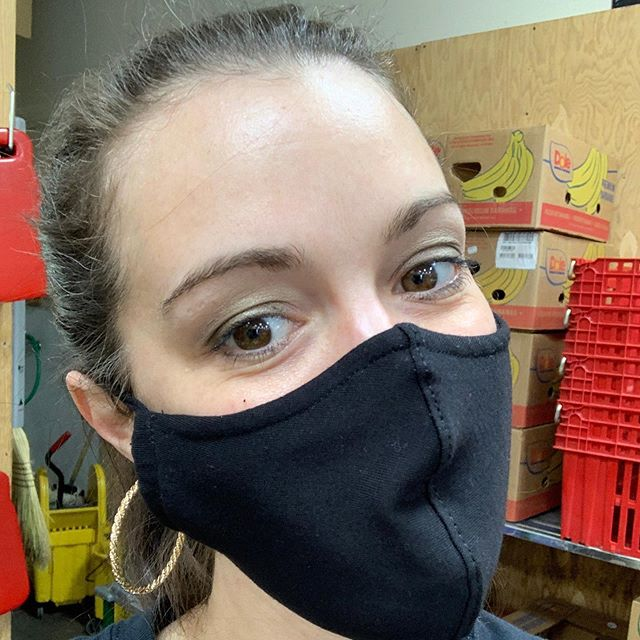homemade: (123, 324, 518, 622)
